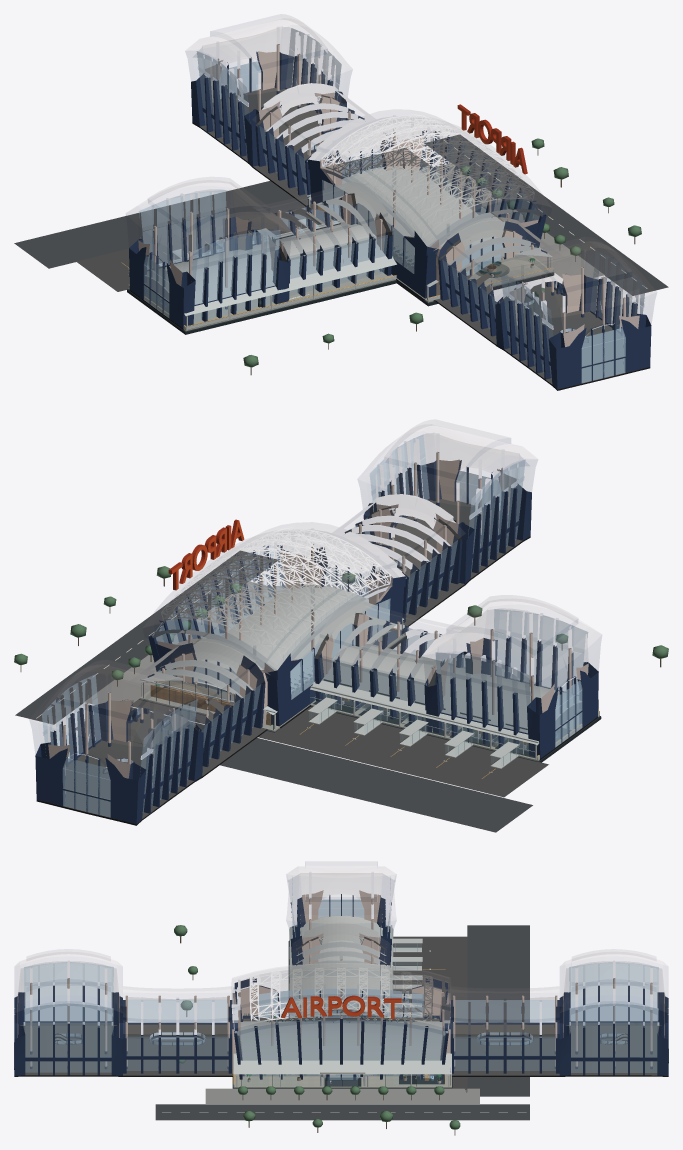
File: terminal.glb
3 renders of one model, top to bottom at view 1: azimuth 30°, elevation 25°; view 2: azimuth 150°, elevation 25°; view 3: azimuth 270°, elevation 25°, orthographic. The views are drawn at different scales.
Visible parts, largest first — view 1: AS|terminal|T-DEMO/07.Modulo2.002_AIRPORT_0, AS|terminal|ROOF/07.Modulo1 · Transparent Roof, AS|terminal|T-DEMO/07.Modulo2_AIRPORT_0, AS|terminal|ARCH-ROOF/Terminal Design · satin ivory structur, AS|terminal|SITE-CONTEXT/Terminal Design · site asphalt, AS|terminal|ROOF/07.Modulo2.002 · Transparent Roof, AS|terminal|ROOF/07.Modulo2 · Transparent Roof, AS|terminal|ROOF/07.Modulo2.001 · Transparent Roof, AS|terminal|T-DEMO/07.Modulo2.001_AIRPORT_0, AS|terminal|T-DEMO/07.Modulo1_AIRPORT_0, AS|terminal|T-LAYOUT/airside apron, AS|terminal|SITE-CONTEXT/Terminal Design · forecourt paving (+5 smaller); view 2: AS|terminal|T-DEMO/07.Modulo2.002_AIRPORT_0, AS|terminal|ROOF/07.Modulo1 · Transparent Roof, AS|terminal|T-DEMO/07.Modulo2.001_AIRPORT_0, AS|terminal|ARCH-ROOF/Terminal Design · satin ivory structur, AS|terminal|SITE-CONTEXT/Terminal Design · site asphalt, AS|terminal|ROOF/07.Modulo2.002 · Transparent Roof, AS|terminal|ROOF/07.Modulo2 · Transparent Roof, AS|terminal|ROOF/07.Modulo2.001 · Transparent Roof, AS|terminal|T-DEMO/07.Modulo2_AIRPORT_0, AS|terminal|T-DEMO/07.Modulo1_AIRPORT_0, AS|terminal|T-LAYOUT/airside apron, AS|terminal|SITE-CONTEXT/Terminal Design · forecourt paving (+4 smaller); view 3: AS|terminal|T-DEMO/07.Modulo2_AIRPORT_0, AS|terminal|T-DEMO/07.Modulo2.001_AIRPORT_0, AS|terminal|ARCH-ROOF/Terminal Design · satin ivory structur, AS|terminal|T-DEMO/07.Modulo1_AIRPORT_0, AS|terminal|SITE-CONTEXT/Terminal Design · site asphalt, AS|terminal|ROOF/07.Modulo2.001 · Transparent Roof, AS|terminal|ROOF/07.Modulo1 · Transparent Roof, AS|terminal|ROOF/07.Modulo2 · Transparent Roof, AS|terminal|ROOF/07.Modulo2.002 · Transparent Roof, AS|terminal|T-LAYOUT/airside apron, AS|terminal|SITE-CONTEXT/Terminal Design · forecourt paving, AS|terminal|T-DEMO/07.Modulo2.002_AIRPORT_0 (+2 smaller).
Part boxes in pixels (<box>): AS|terminal|T-DEMO/07.Modulo2.002_AIRPORT_0: <box>129,190,392,329</box>; AS|terminal|ROOF/07.Modulo1 · Transparent Roof: <box>310,110,551,247</box>; AS|terminal|T-DEMO/07.Modulo2_AIRPORT_0: <box>436,228,651,390</box>; AS|terminal|ARCH-ROOF/Terminal Design · satin ivory structur: <box>128,166,552,315</box>; AS|terminal|SITE-CONTEXT/Terminal Design · site asphalt: <box>14,134,668,295</box>; AS|terminal|ROOF/07.Modulo2.002 · Transparent Roof: <box>126,177,393,278</box>; AS|terminal|ROOF/07.Modulo2 · Transparent Roof: <box>436,217,656,337</box>; AS|terminal|ROOF/07.Modulo2.001 · Transparent Roof: <box>186,14,368,161</box>; AS|terminal|T-DEMO/07.Modulo2.001_AIRPORT_0: <box>191,28,392,206</box>; AS|terminal|T-DEMO/07.Modulo1_AIRPORT_0: <box>308,104,546,301</box>; AS|terminal|T-LAYOUT/airside apron: <box>76,204,319,291</box>; AS|terminal|SITE-CONTEXT/Terminal Design · forecourt paving: <box>432,163,604,278</box>; AS|terminal|T-DEMO/07.Modulo2.002_AIRPORT_0: <box>314,609,598,759</box>; AS|terminal|ROOF/07.Modulo1 · Transparent Roof: <box>143,522,403,671</box>; AS|terminal|T-DEMO/07.Modulo2.001_AIRPORT_0: <box>35,651,267,825</box>; AS|terminal|ARCH-ROOF/Terminal Design · satin ivory structur: <box>140,584,581,744</box>; AS|terminal|SITE-CONTEXT/Terminal Design · site asphalt: <box>15,550,532,832</box>; AS|terminal|ROOF/07.Modulo2.002 · Transparent Roof: <box>313,595,601,704</box>; AS|terminal|ROOF/07.Modulo2 · Transparent Roof: <box>340,420,537,578</box>; AS|terminal|ROOF/07.Modulo2.001 · Transparent Roof: <box>29,639,267,768</box>; AS|terminal|T-DEMO/07.Modulo2_AIRPORT_0: <box>343,434,531,626</box>; AS|terminal|T-DEMO/07.Modulo1_AIRPORT_0: <box>148,519,405,727</box>; AS|terminal|T-LAYOUT/airside apron: <box>131,698,548,797</box>; AS|terminal|SITE-CONTEXT/Terminal Design · forecourt paving: <box>85,581,268,704</box>; AS|terminal|T-DEMO/07.Modulo2_AIRPORT_0: <box>14,962,232,1076</box>; AS|terminal|T-DEMO/07.Modulo2.001_AIRPORT_0: <box>450,962,668,1076</box>; AS|terminal|ARCH-ROOF/Terminal Design · satin ivory structur: <box>233,915,451,1074</box>; AS|terminal|T-DEMO/07.Modulo1_AIRPORT_0: <box>232,977,450,1080</box>; AS|terminal|SITE-CONTEXT/Terminal Design · site asphalt: <box>155,925,529,1120</box>; AS|terminal|ROOF/07.Modulo2.001 · Transparent Roof: <box>451,949,667,1038</box>; AS|terminal|ROOF/07.Modulo1 · Transparent Roof: <box>232,963,450,1035</box>; AS|terminal|ROOF/07.Modulo2 · Transparent Roof: <box>15,949,231,1038</box>; AS|terminal|ROOF/07.Modulo2.002 · Transparent Roof: <box>286,862,395,964</box>; AS|terminal|T-LAYOUT/airside apron: <box>393,936,467,1092</box>; AS|terminal|SITE-CONTEXT/Terminal Design · forecourt paving: <box>205,1088,479,1103</box>; AS|terminal|T-DEMO/07.Modulo2.002_AIRPORT_0: <box>290,877,391,967</box>.
Size of what is drawn, in the model's own units: 162 by 34.08 by 210.
Materials: 45 (14 with a texture image).
